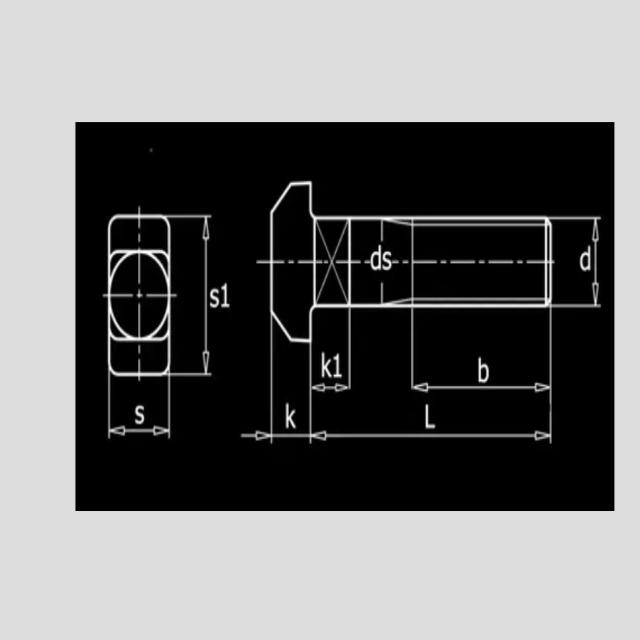marking_line: (311, 426, 549, 443), (417, 379, 548, 397), (201, 221, 214, 370), (109, 424, 169, 441), (591, 221, 602, 304), (314, 379, 349, 394), (242, 429, 267, 445)
